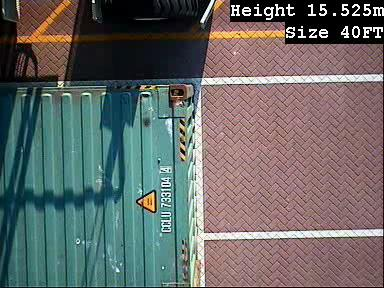groundmarker_2: (206, 235, 280, 270), (205, 40, 279, 74), (206, 99, 280, 133)
